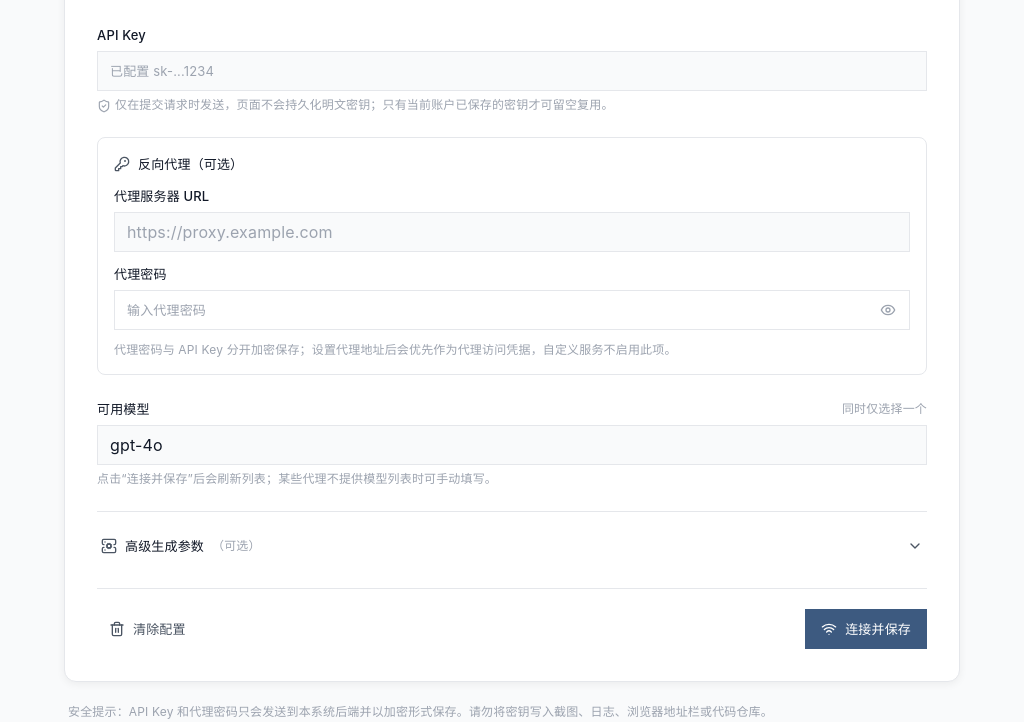
AiConfig › loads model-specific parameter metadata after switching models
(page scrolled)
Select "gpt-4.1-mini" in the dropdown labelled "可用模型" at (512, 445), box left=97, top=425, right=927, bottom=465
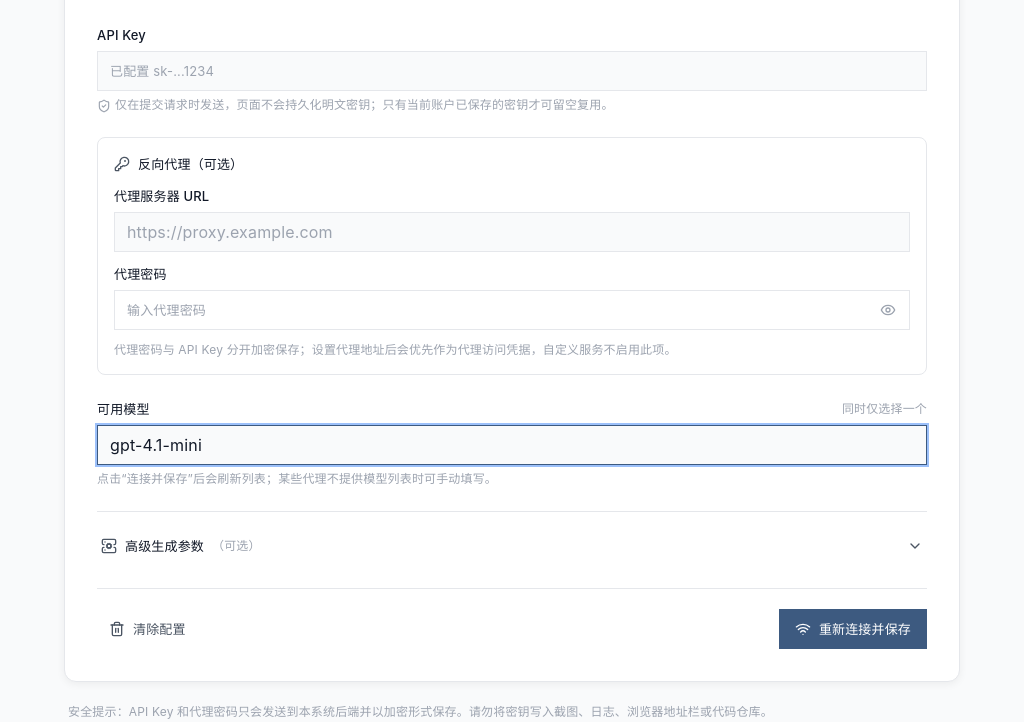
Click the button "高级生成参数 （可选）" at (164, 546), box left=97, top=528, right=927, bottom=564
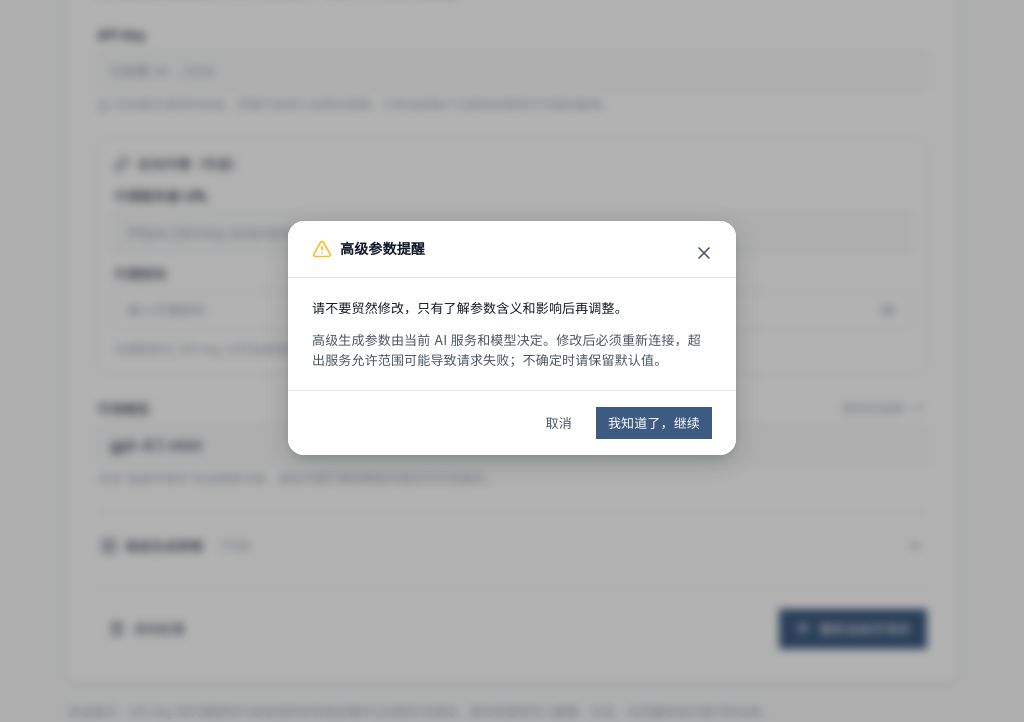
Click the button "我知道了，继续" at (654, 423), box left=596, top=407, right=712, bottom=439
(page scrolled)
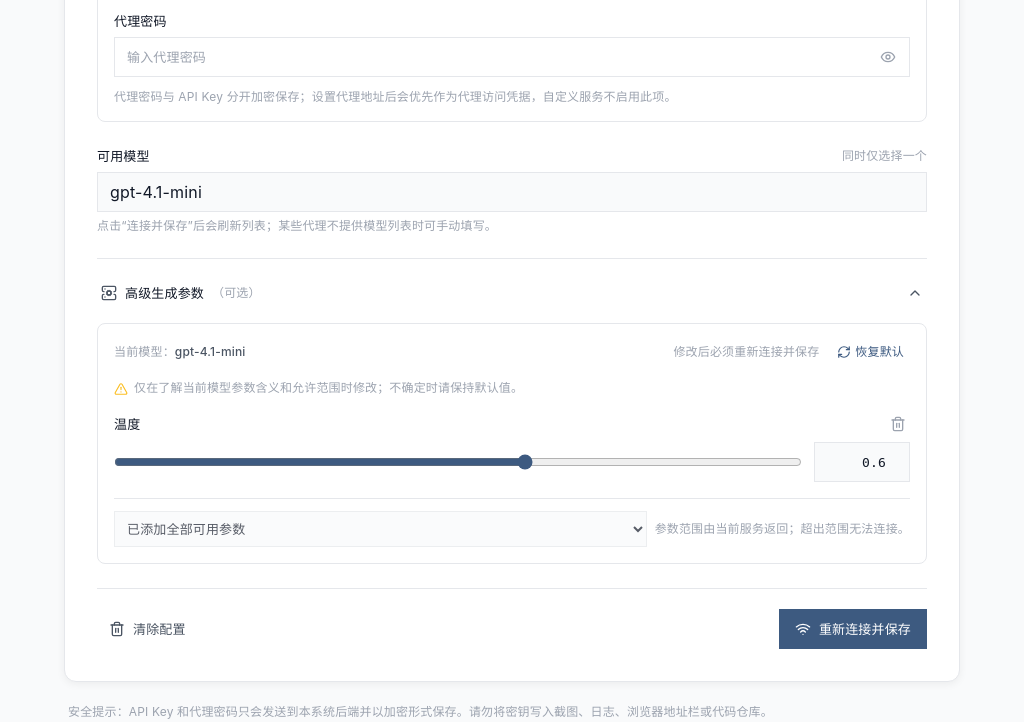
Expected: the number field labelled "温度" holds "0.6", left=814, top=442, right=910, bottom=482
